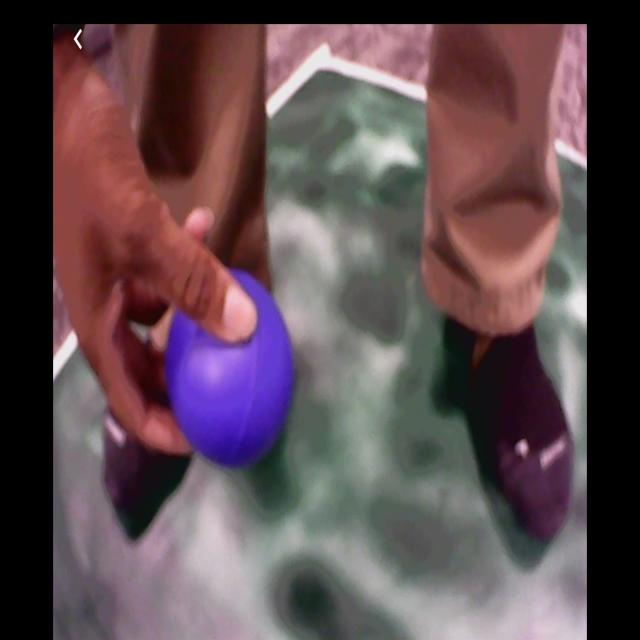ball: (171, 275, 295, 462)
